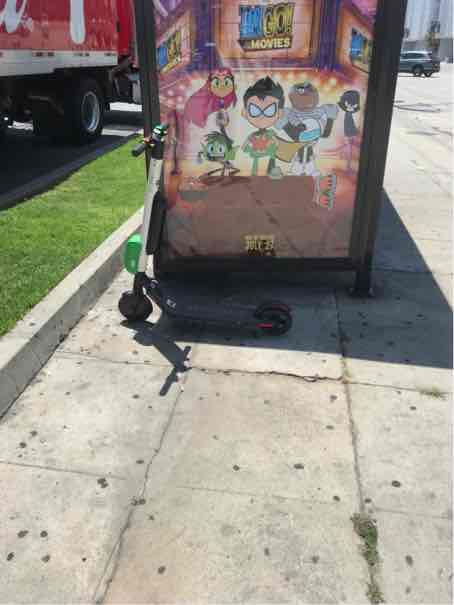scooter: (98, 115, 301, 350)
